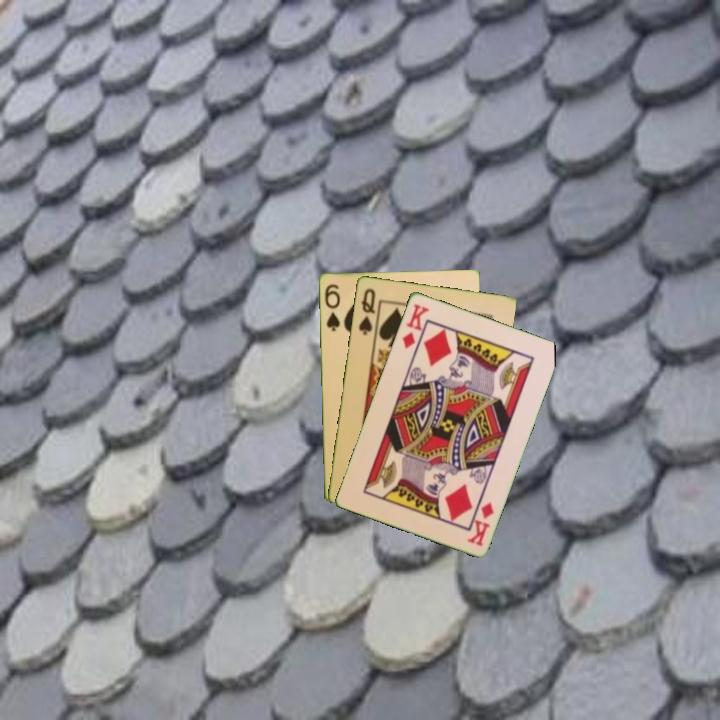6s: (321, 280, 343, 334)
Kd: (398, 300, 432, 351), (464, 498, 496, 549)
Qs: (355, 285, 378, 338)
